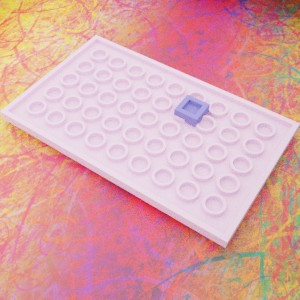lego: (0, 34, 300, 248), (173, 94, 209, 128)
